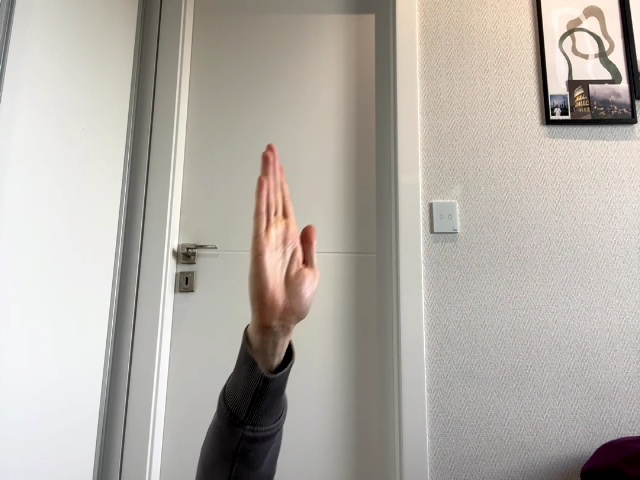SZ: (250, 144, 320, 329)
